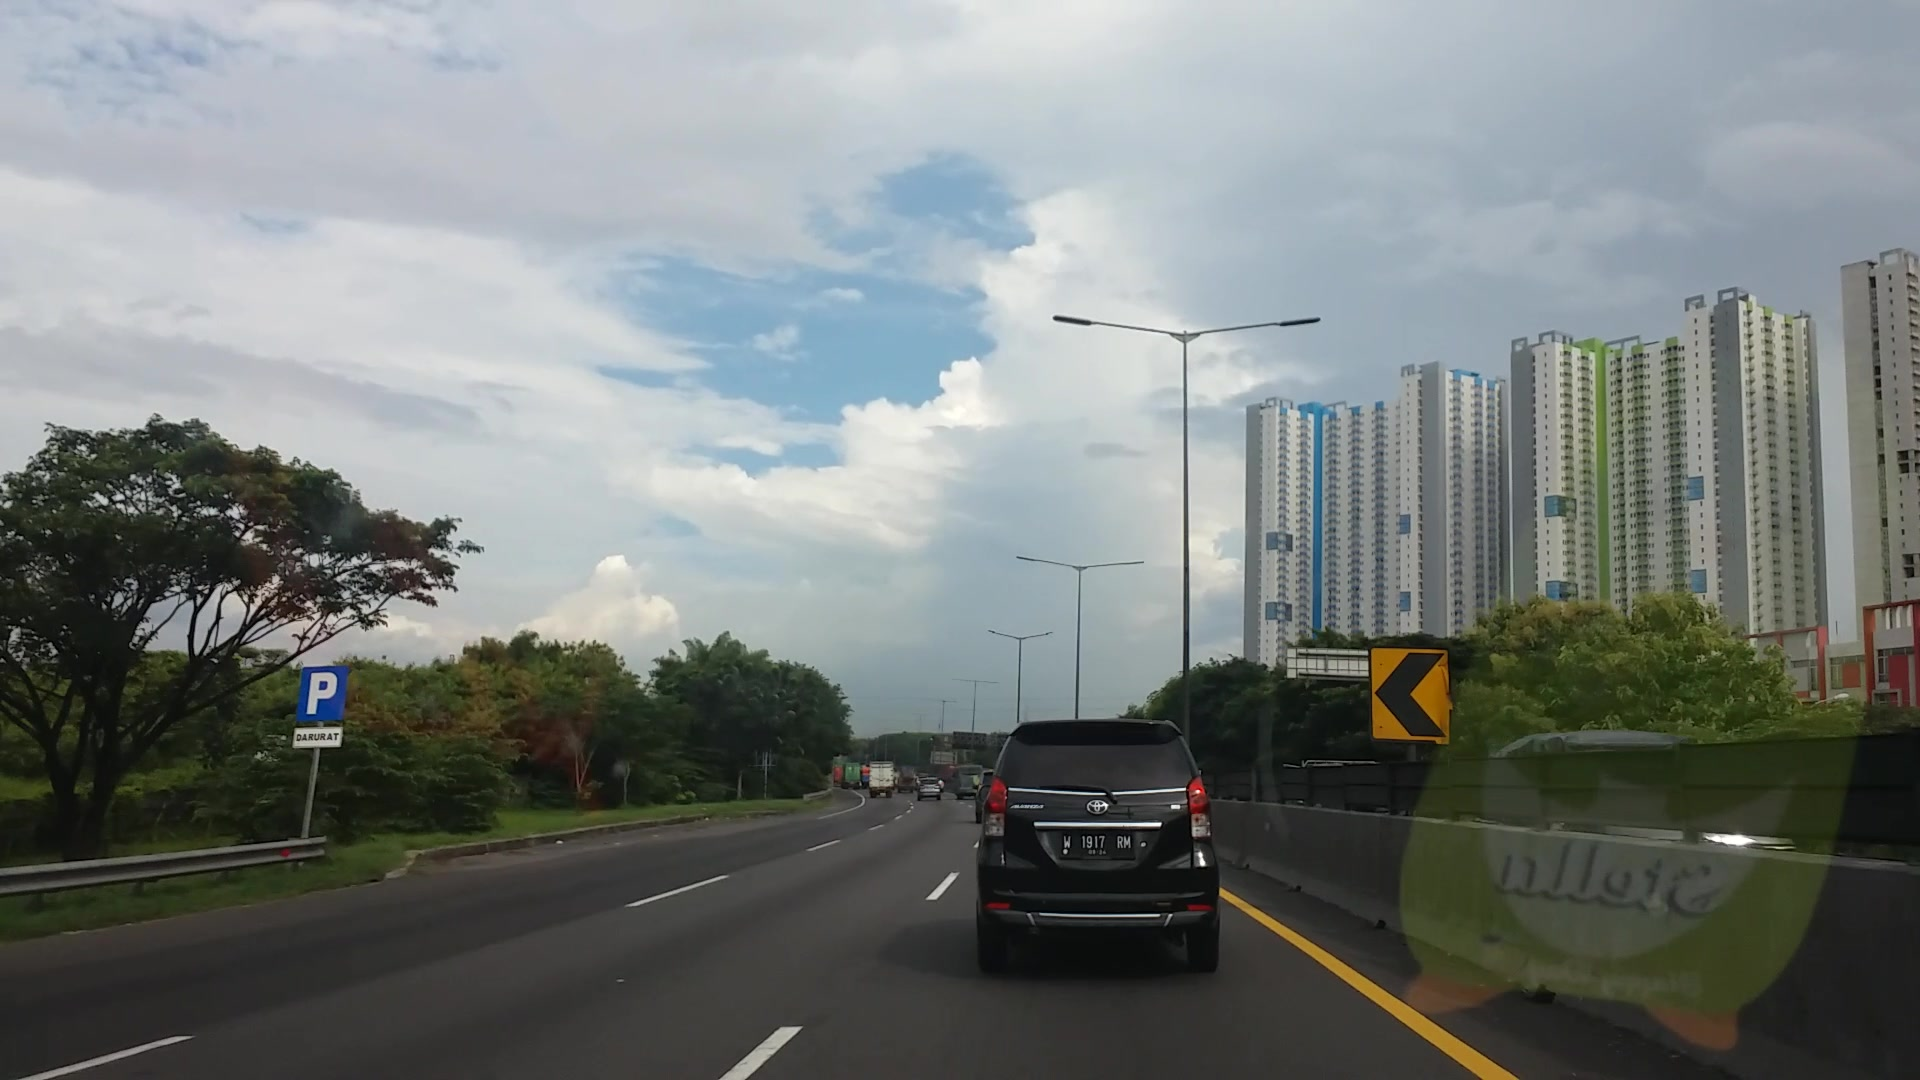plate_positive: (1062, 831, 1135, 860)
